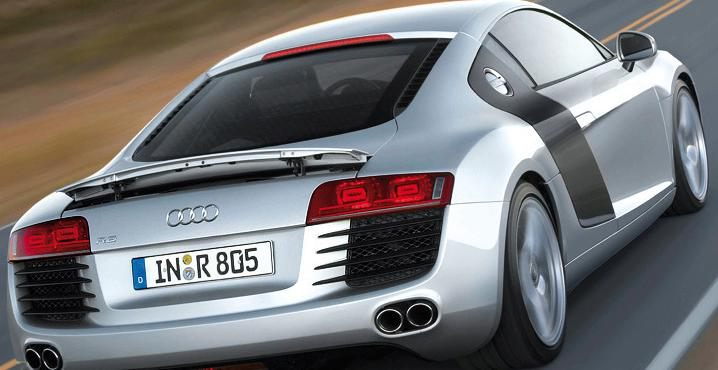back_view: (2, 155, 502, 370)
backlight: (293, 168, 461, 227)
side_glass: (483, 8, 619, 88)
